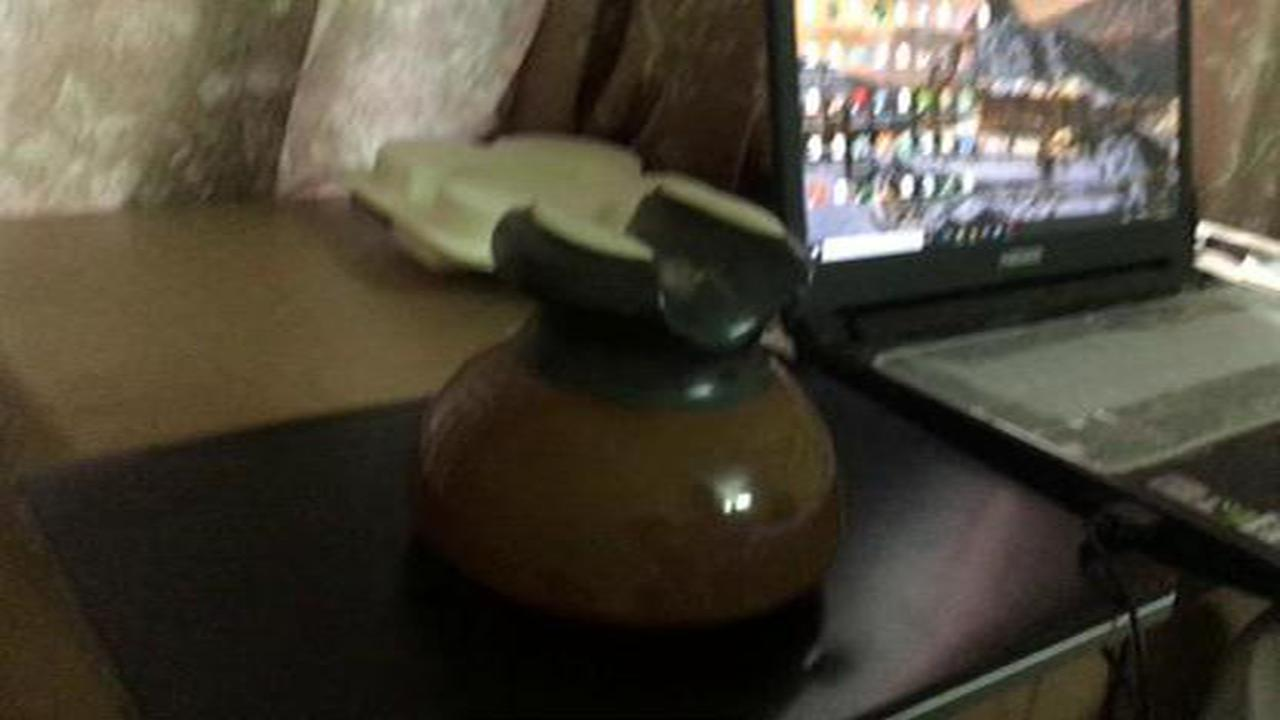insulator_pin: (394, 167, 868, 648)
